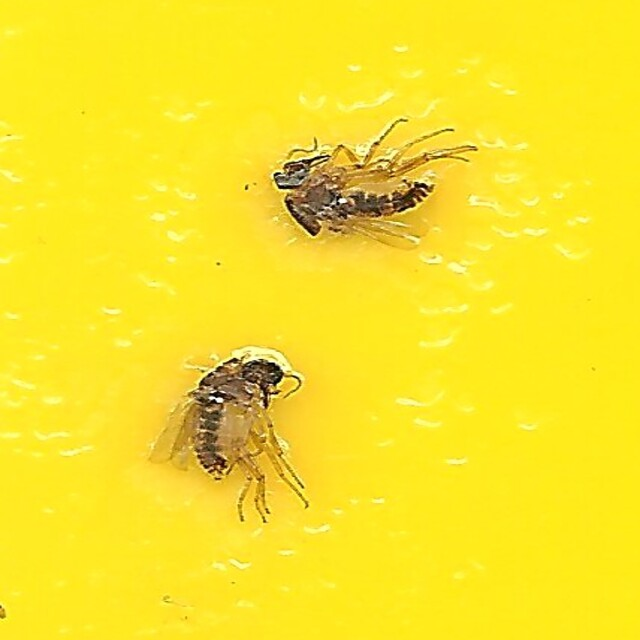Brachycera: (263, 118, 490, 242), (150, 352, 302, 522)
